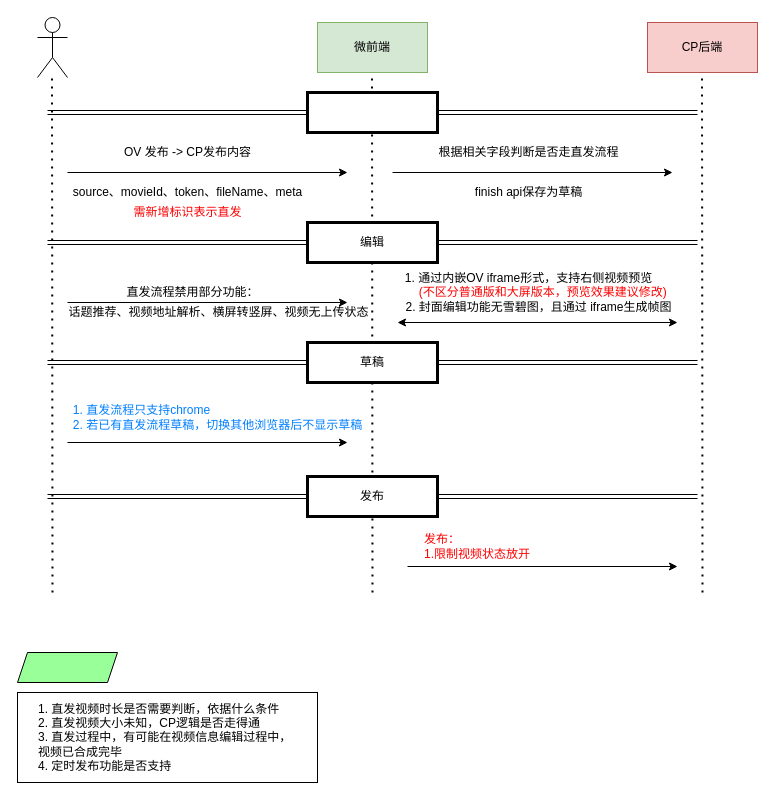
Image size: 775x800. Some labels were removed from this diagram. The box of each missing label's shape, as (x1, y1, x2, y2) in pixels:
question:: (16, 652, 118, 682)
user: (36, 16, 68, 78)
直发: (306, 90, 438, 134)
